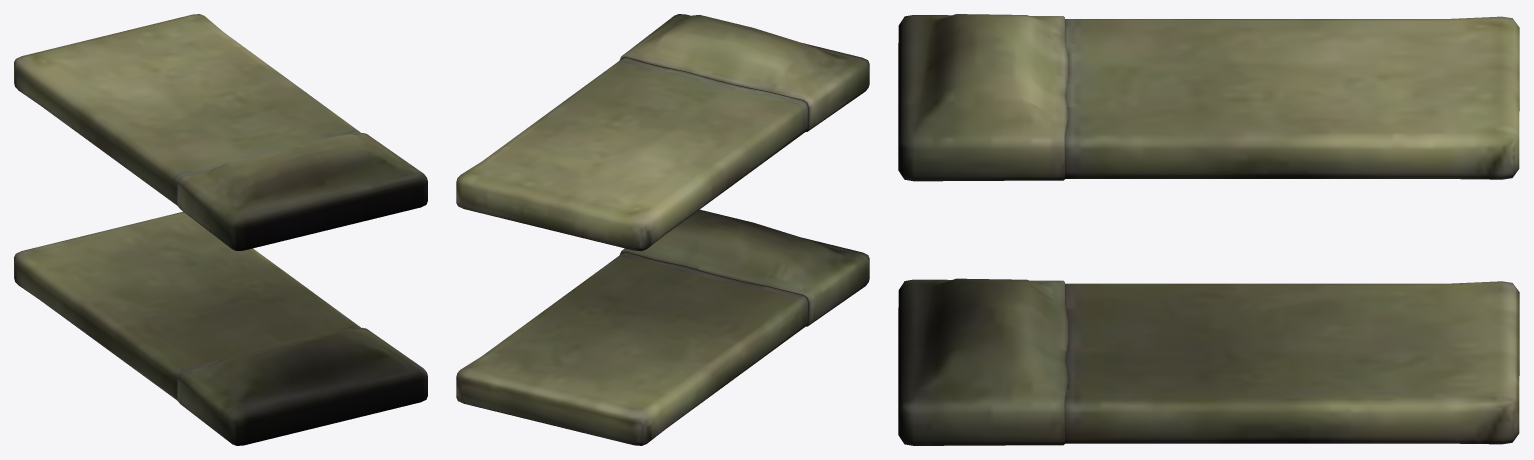
File: bunkbed2.glb
3 views of the same model, side by side, from view 1: azimuth 30°, elevation 25°; view 2: azimuth 150°, elevation 25°; view 3: azimuth 270°, elevation 25° (orthographic). The views are drawn at different scales.
Parts seen in each view (by area): view 1: 0_bunkbed; view 2: 0_bunkbed; view 3: 0_bunkbed.
Boxes of the visible parts, left/top/right/bottom form: 0_bunkbed: left=14, top=14, right=427, bottom=445; 0_bunkbed: left=456, top=14, right=869, bottom=445; 0_bunkbed: left=898, top=14, right=1519, bottom=445.
Bounding box in the file's own units: 1.17 × 1.43 × 2.34.
1 material, 1 textured.
